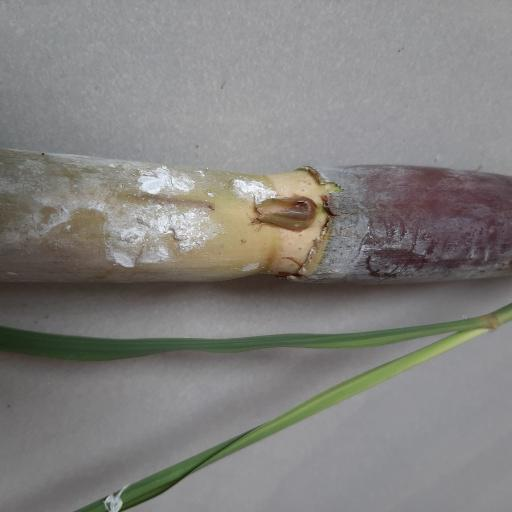Damage_Bud: (253, 197, 316, 233)
